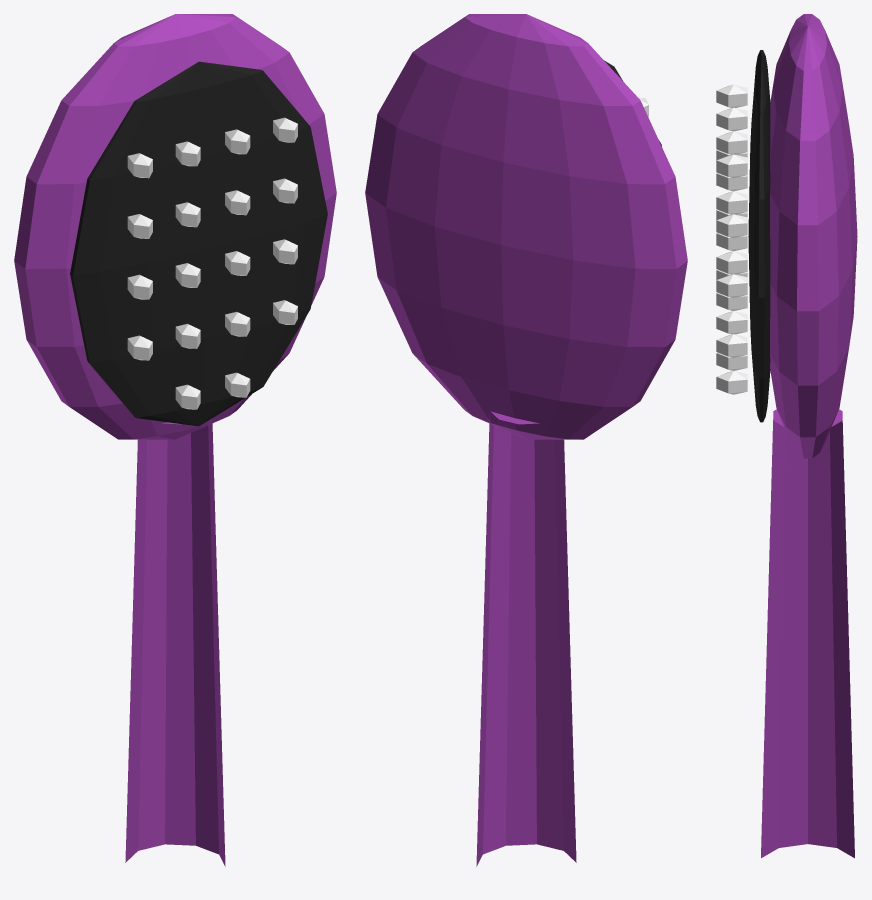
The model's file is harborste.glb.
The picture shows the model from 3 angles, left to right: view 1: azimuth 30°, elevation 25°; view 2: azimuth 150°, elevation 25°; view 3: azimuth 270°, elevation 25°; orthographic projection.
Parts seen in each view (by area): view 1: harborste; view 2: harborste; view 3: harborste.
Part boxes in pixels (<box>): harborste: <box>14,14,336,866</box>; harborste: <box>365,14,687,866</box>; harborste: <box>716,14,857,858</box>.
Bounding box in the file's own units: 0.2145 × 0.56 × 0.0854.
